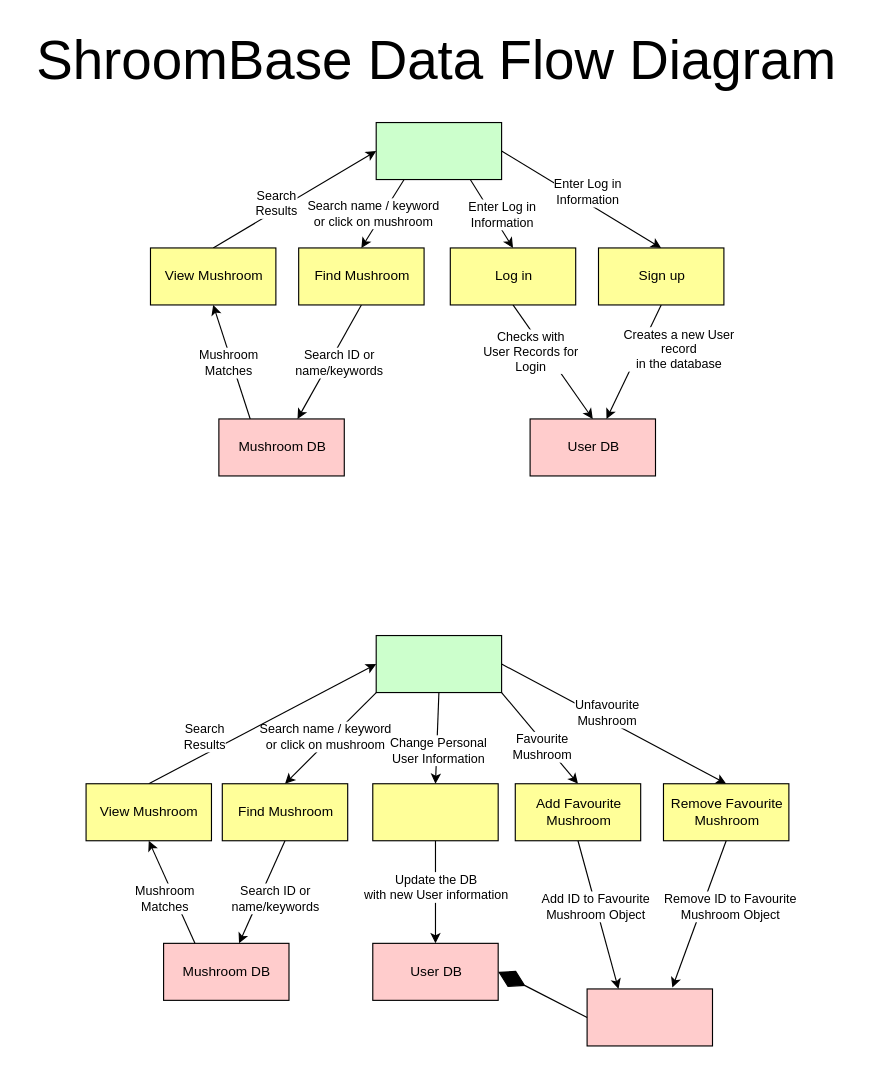
This 871x1067 diagram has some shape labels left out. Each missing label, with the box of its shape:
Change User Info: (372, 783, 498, 841)
SignedUpUser: (375, 634, 502, 693)
User Favourites Object: (586, 988, 712, 1046)
Visitor: (375, 121, 502, 180)
